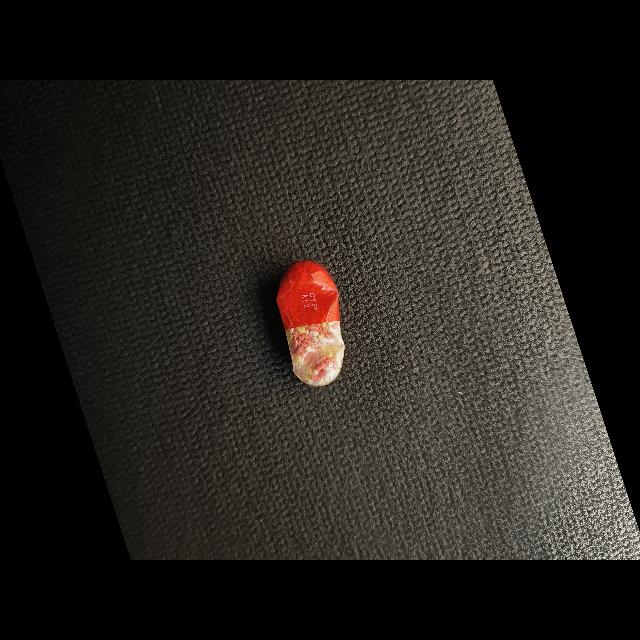Defective Capsule: (276, 260, 345, 387)
